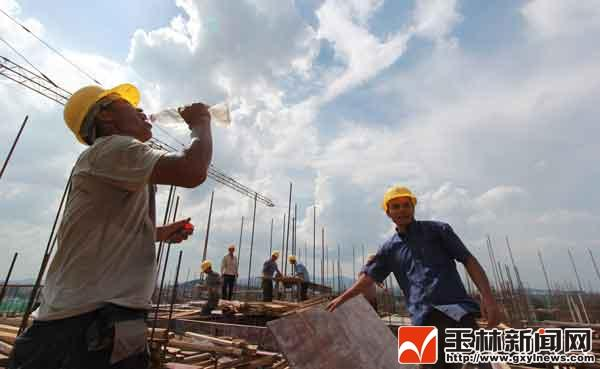helmet: (64, 83, 143, 145), (383, 186, 418, 215), (202, 261, 212, 273), (273, 251, 280, 259), (290, 256, 297, 262), (229, 245, 236, 250)
